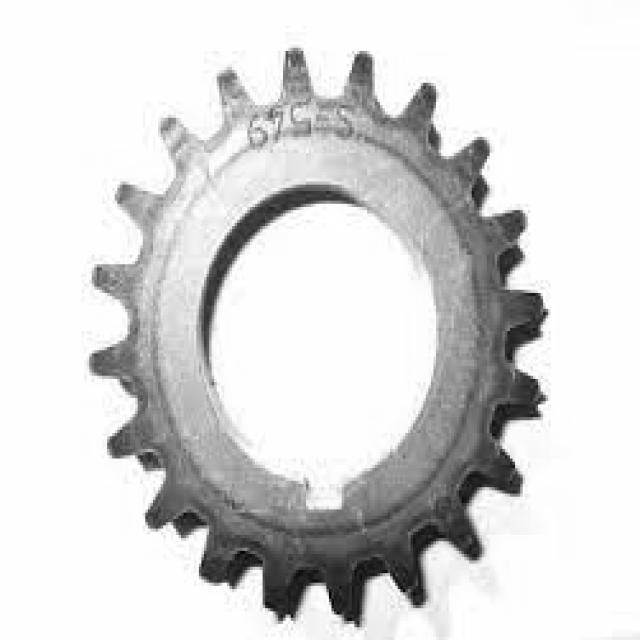No Fault: (39, 27, 603, 636)
